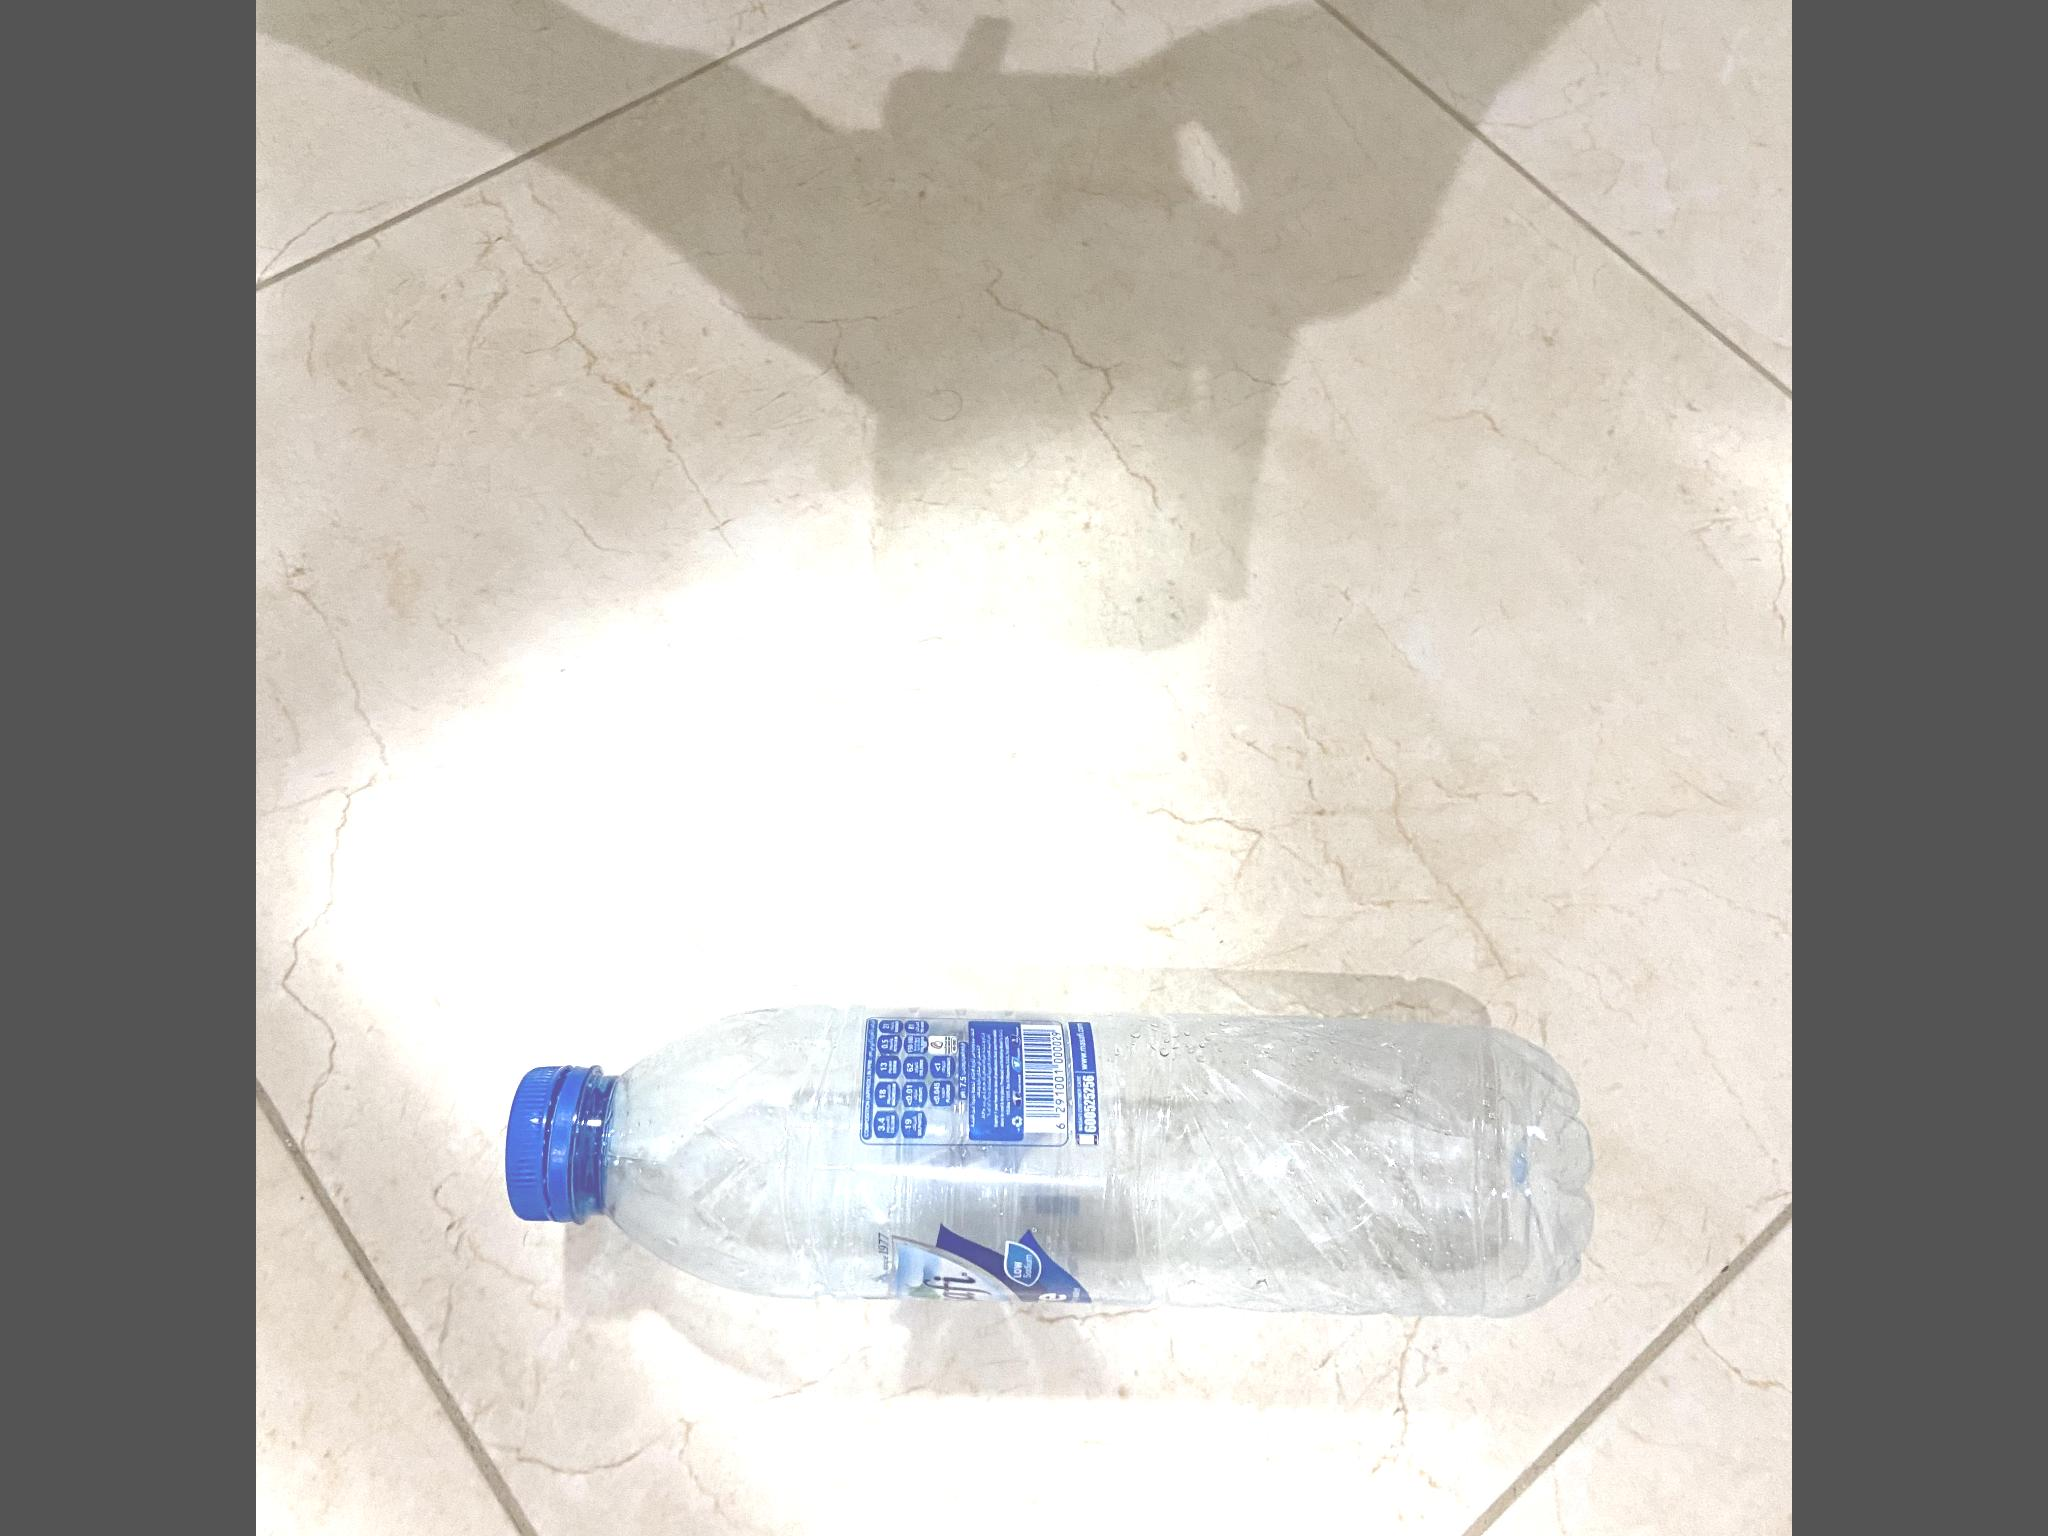bottle: (485, 989, 1579, 1334)
